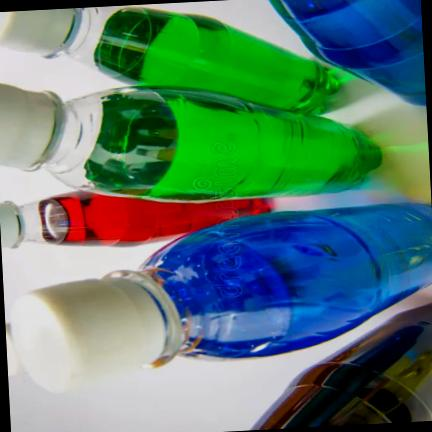container: (149, 203, 432, 357), (45, 87, 380, 200), (64, 6, 339, 113), (250, 303, 432, 430), (22, 191, 269, 246)
fluid: (148, 204, 432, 356), (138, 85, 381, 200), (115, 6, 339, 113), (51, 182, 270, 247)
fluid-surface: (84, 88, 178, 192), (140, 267, 207, 348), (93, 7, 148, 75), (38, 198, 68, 243)
